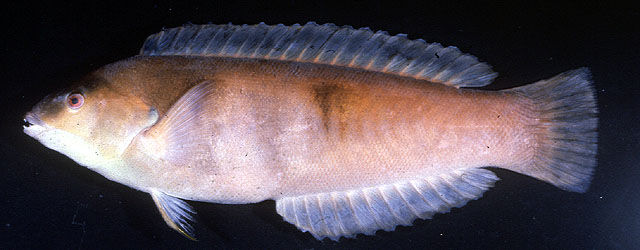fish: (21, 21, 598, 242)
